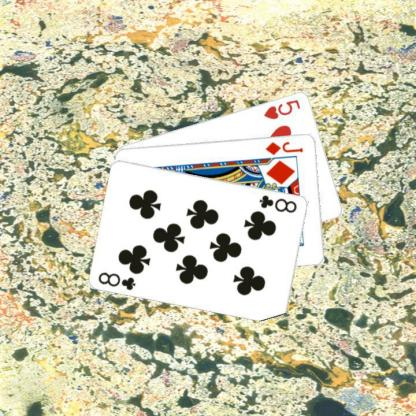5H: (261, 97, 302, 120)
8C: (257, 192, 299, 214), (96, 269, 137, 291)
JD: (263, 139, 304, 156)
